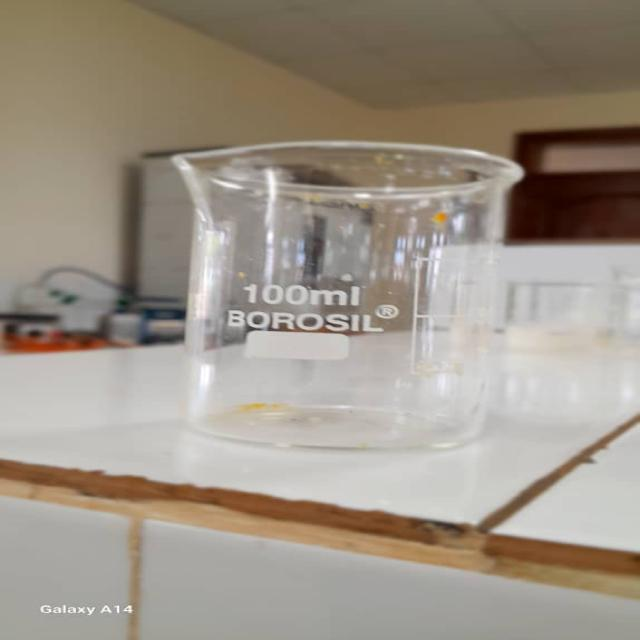Beakers: (161, 137, 547, 450)
